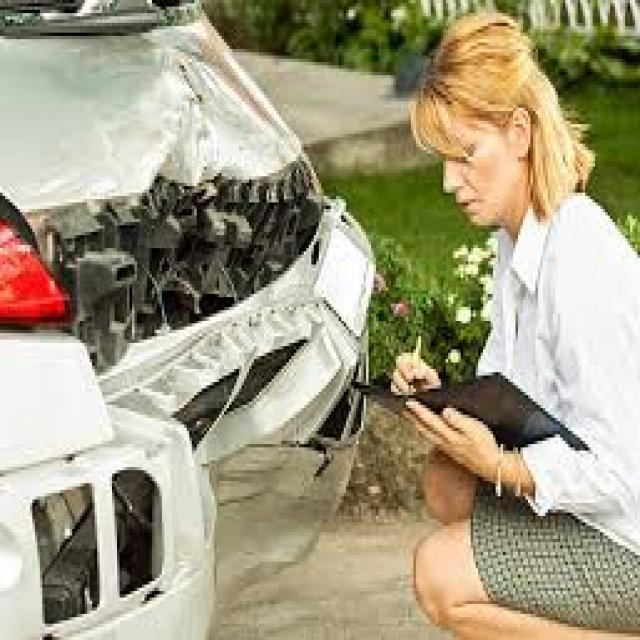damaged-rear-bumper: (6, 206, 372, 640)
